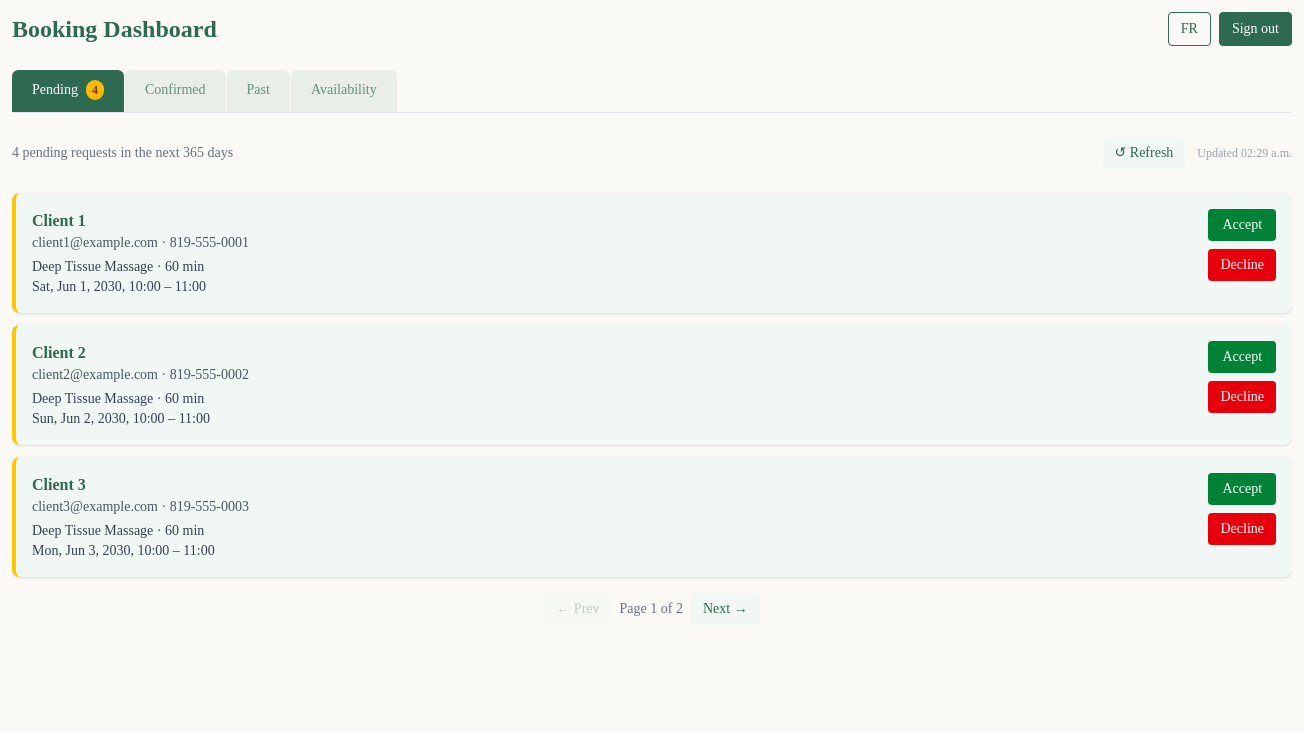
Test: AdminDashboard › Pending tab — pagination › clicking Prev goes back to first page
The image size is (1304, 732).
Click the button with test id "pending-next" at (725, 609), box [691,593,760,625]
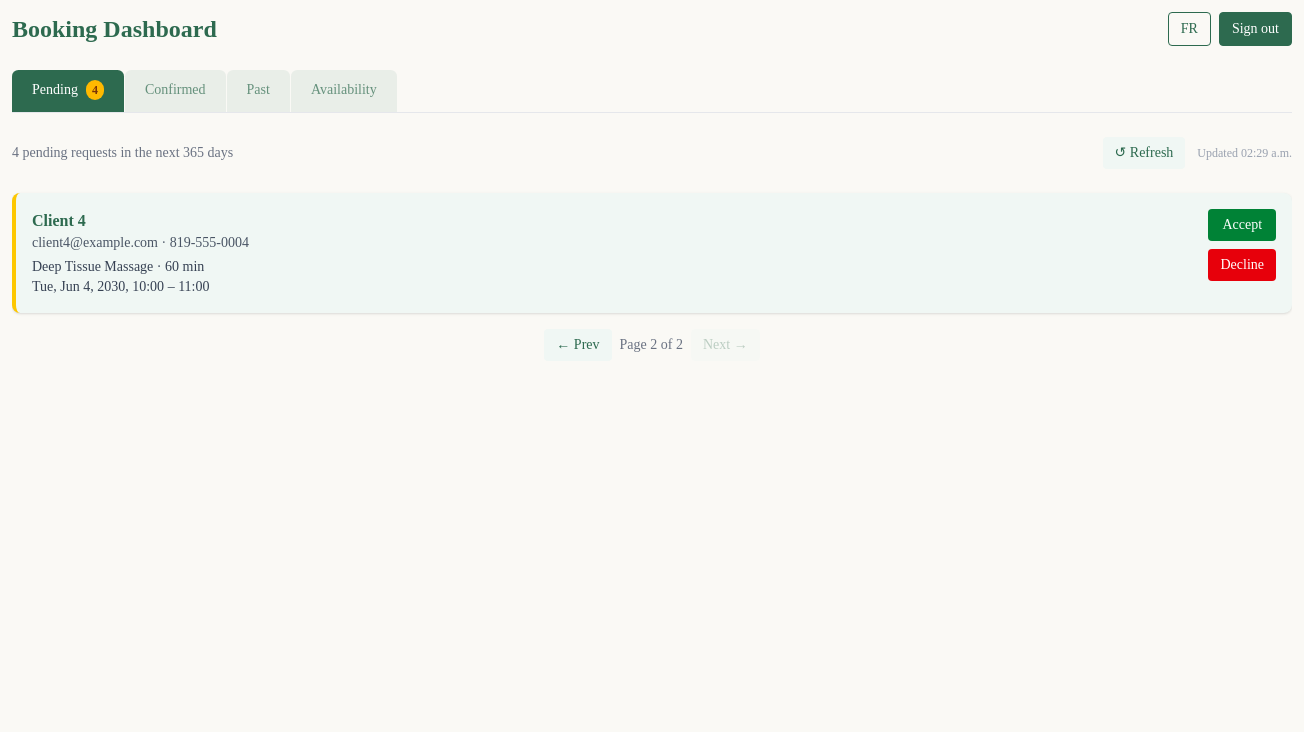
Expected: the text with test id "pending-page-label" reads "Page 2 of 2", [620,337,683,352]
Click the button with test id "pending-prev" at (578, 345), box [544,329,612,361]
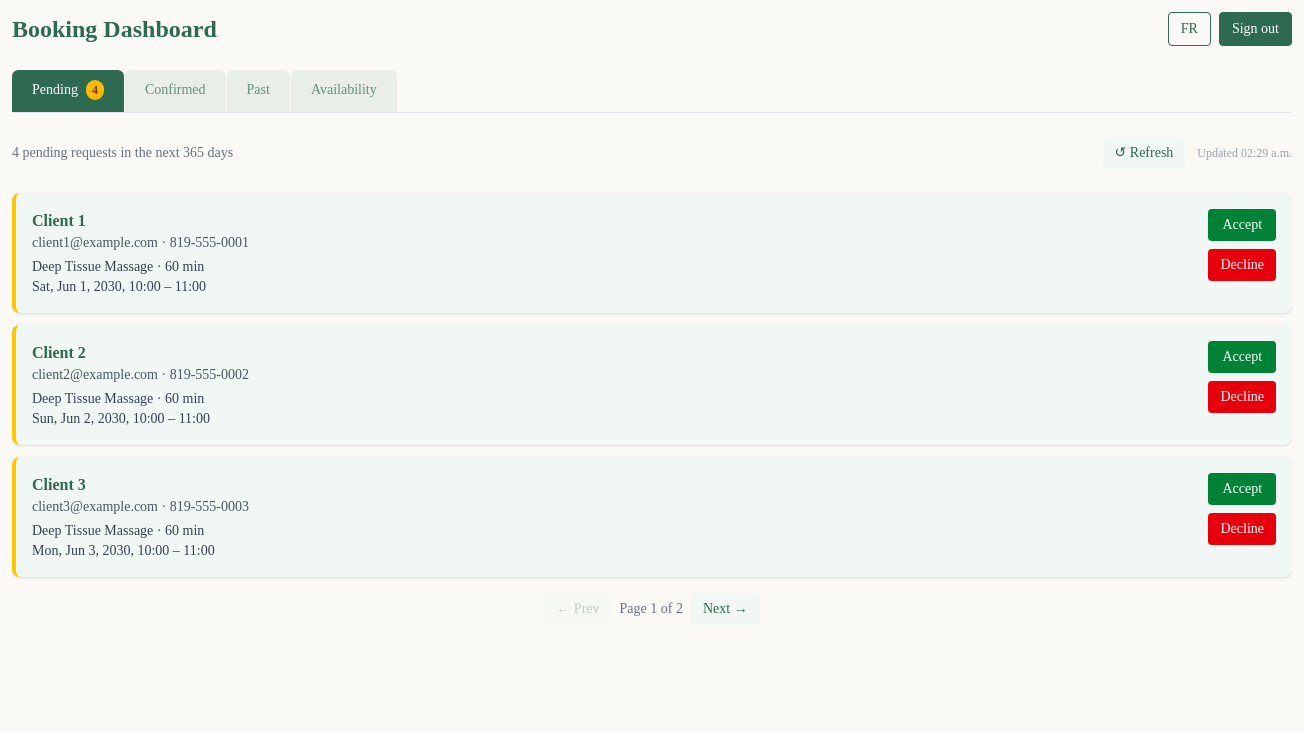
Expected: the text with test id "pending-page-label" reads "Page 1 of 2", [620,601,683,616]
Expected: the text "Client 1" is shown, [32,212,86,229]
